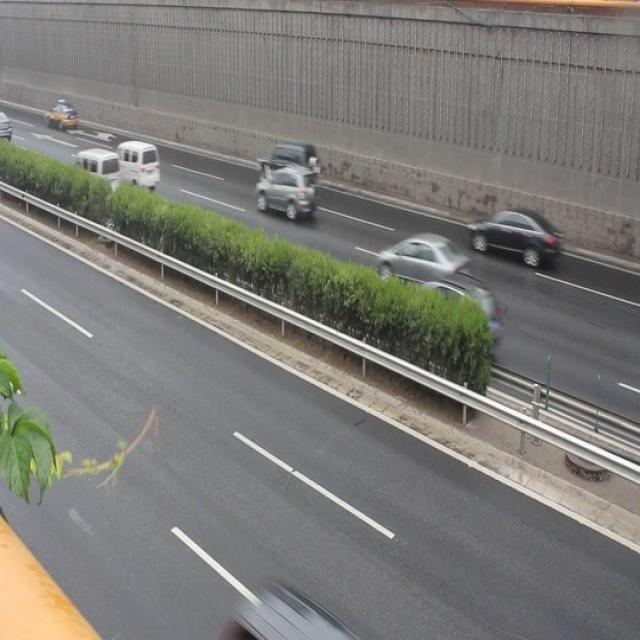car: (391, 274, 501, 364), (226, 582, 357, 640), (376, 229, 466, 300), (467, 208, 558, 268), (255, 165, 317, 220), (255, 143, 317, 196)
truck: (102, 140, 161, 192), (64, 149, 121, 201)
